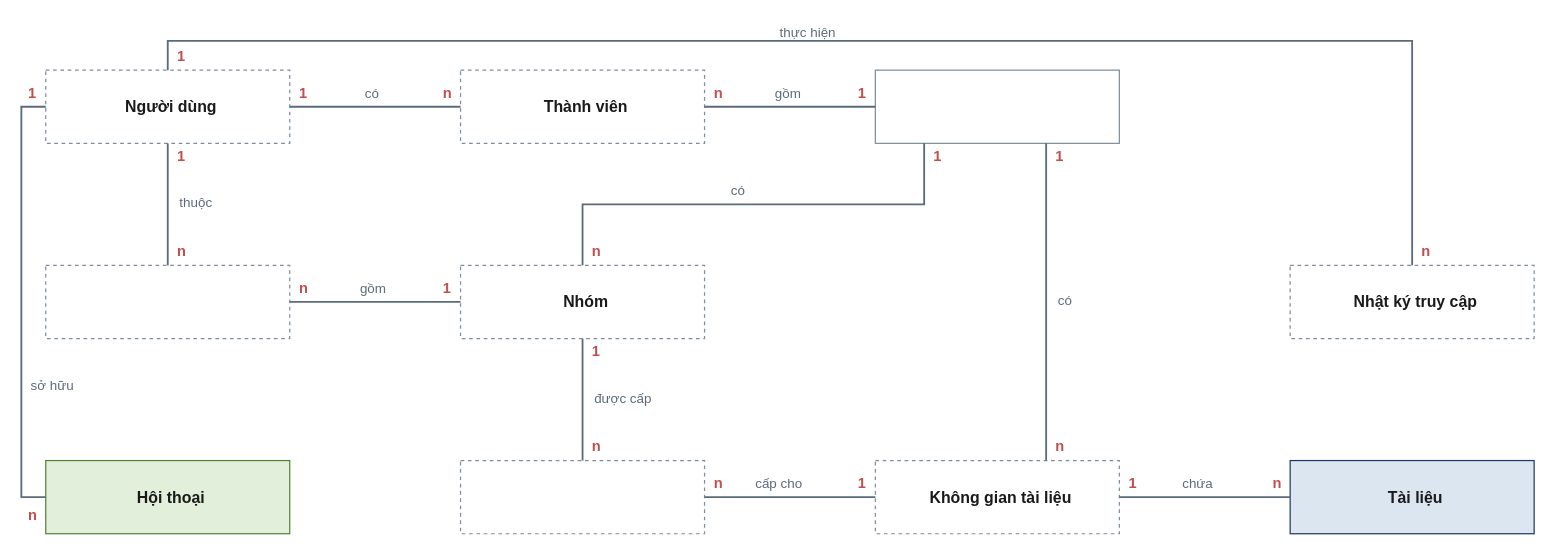
This 1557x555 diagram has some shape labels left out. Each missing label, with the centre of its shape:
"Quyền không gian" goes at (x=582, y=496).
"Tenant" goes at (x=996, y=106).
"Thành viên nhóm" goes at (x=167, y=301).
